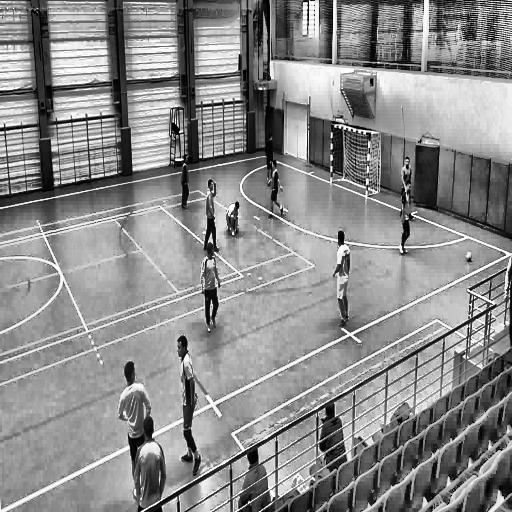ball: (466, 250, 472, 264)
player: (226, 200, 240, 239)
